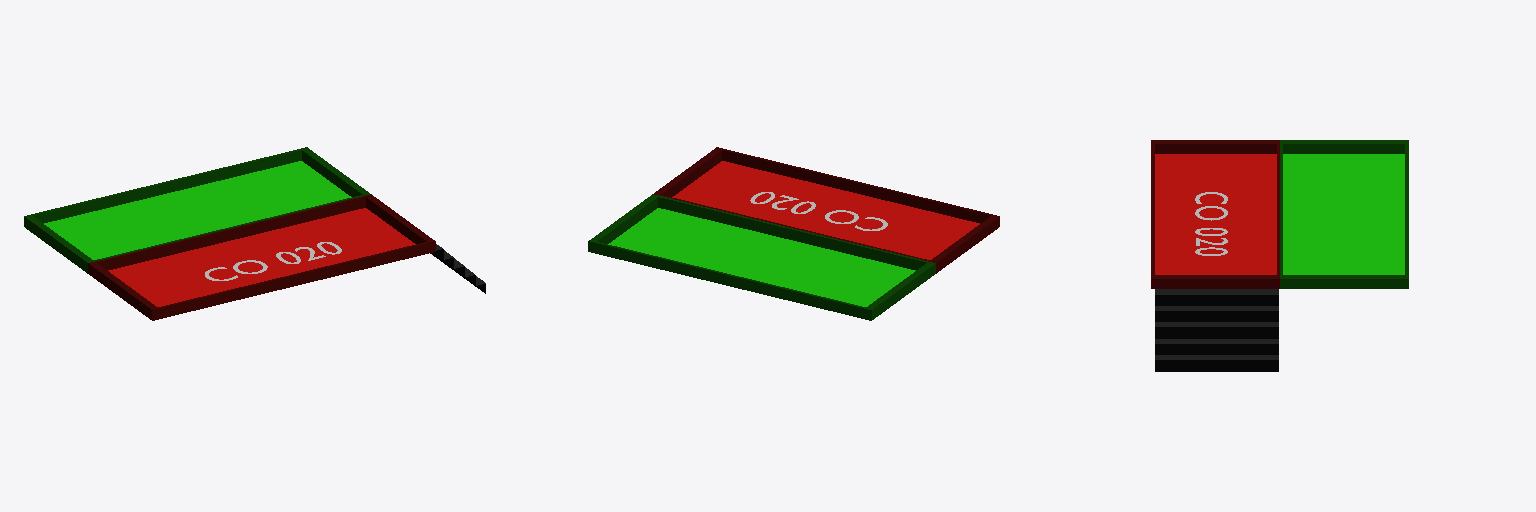
Rendered from map.obj.
The picture shows the model from 3 angles: view 1: azimuth 30°, elevation 25°; view 2: azimuth 150°, elevation 25°; view 3: azimuth 270°, elevation 25°; orthographic projection.
Parts seen in each view (by area): view 1: Plane_Plane.003, Plane.001_Plane.004, Text, Cube_Cube.001; view 2: Plane.001_Plane.004, Plane_Plane.003, Text; view 3: Plane.001_Plane.004, Plane_Plane.003, Cube_Cube.001, Text.
Boxes of the visible parts, x1,y1,x2,y2 form: Plane_Plane.003: [88, 194, 435, 320]; Plane.001_Plane.004: [24, 147, 369, 273]; Text: [205, 242, 341, 280]; Cube_Cube.001: [430, 244, 485, 293]; Plane.001_Plane.004: [588, 194, 935, 320]; Plane_Plane.003: [654, 147, 999, 273]; Text: [750, 192, 887, 230]; Plane.001_Plane.004: [1280, 140, 1408, 288]; Plane_Plane.003: [1151, 140, 1279, 288]; Cube_Cube.001: [1155, 289, 1278, 371]; Text: [1195, 192, 1227, 255].
Bounding box in the file's own units: 12.52 × 2.4 × 8.3.